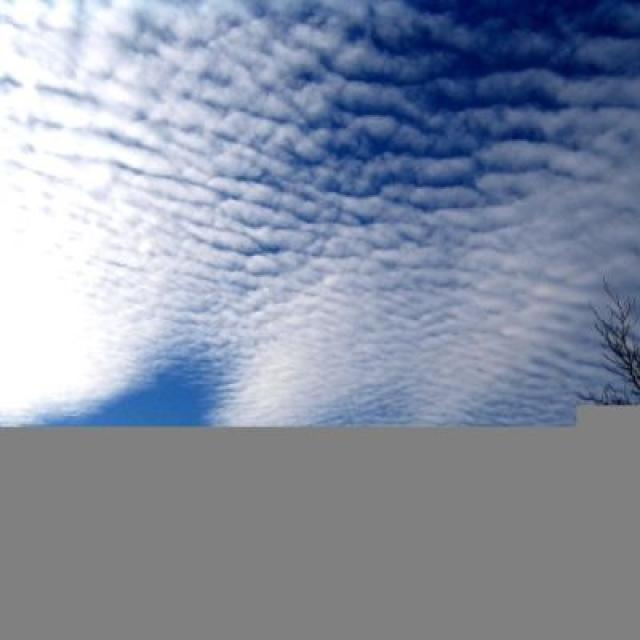Ac: (16, 21, 639, 349)
